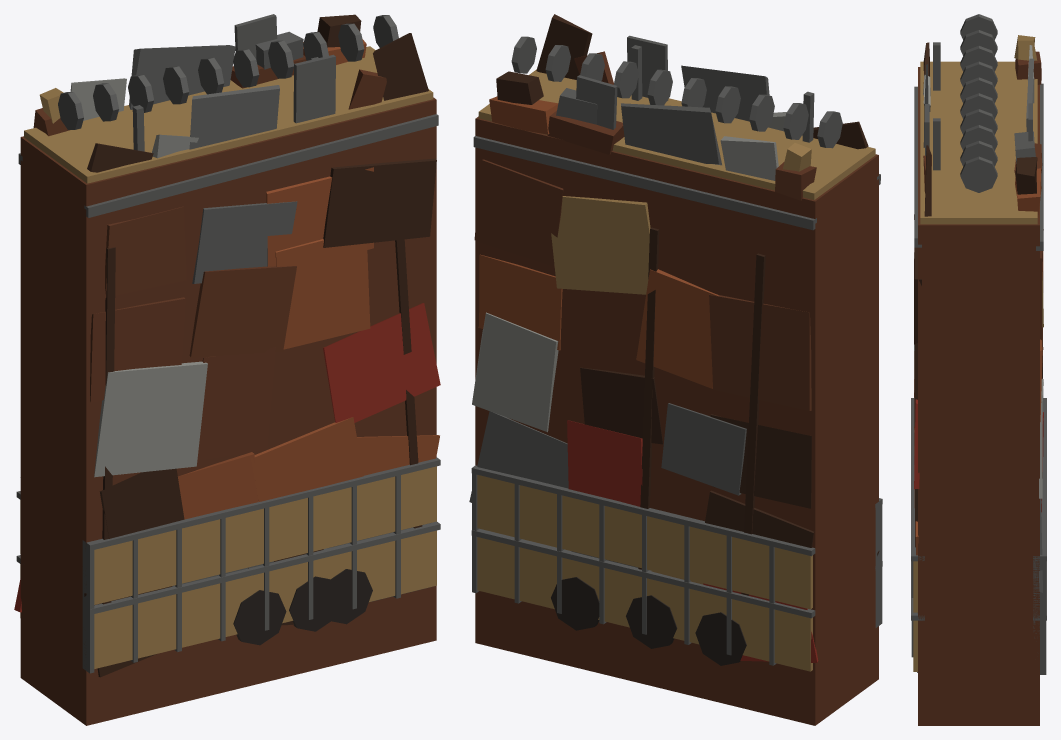
The model's file is fort_scrap_wall.glb.
3 views of the same model, side by side, from view 1: azimuth 30°, elevation 25°; view 2: azimuth 150°, elevation 25°; view 3: azimuth 270°, elevation 25° (orthographic). The views are drawn at different scales.
Parts seen in each view (by area): view 1: fort_scrap_wall; view 2: fort_scrap_wall; view 3: fort_scrap_wall.
Part boxes in pixels (bbox=[...]): fort_scrap_wall: bbox=[14, 14, 440, 725]; fort_scrap_wall: bbox=[469, 14, 882, 725]; fort_scrap_wall: bbox=[911, 14, 1046, 725].
Bounding box in the file's own units: 8.2 × 13.29 × 2.9.
